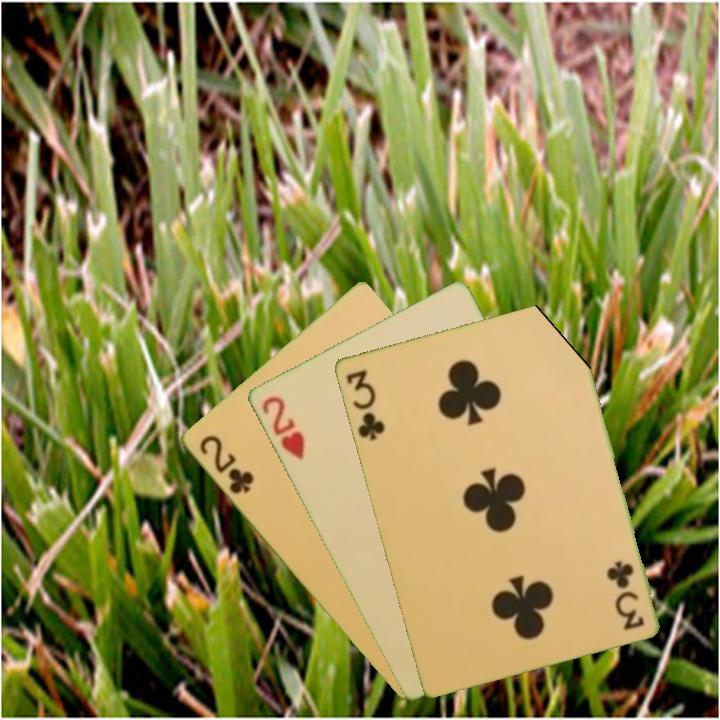2c: (195, 431, 257, 497)
2h: (257, 392, 307, 463)
3c: (342, 365, 388, 443), (605, 557, 647, 633)
